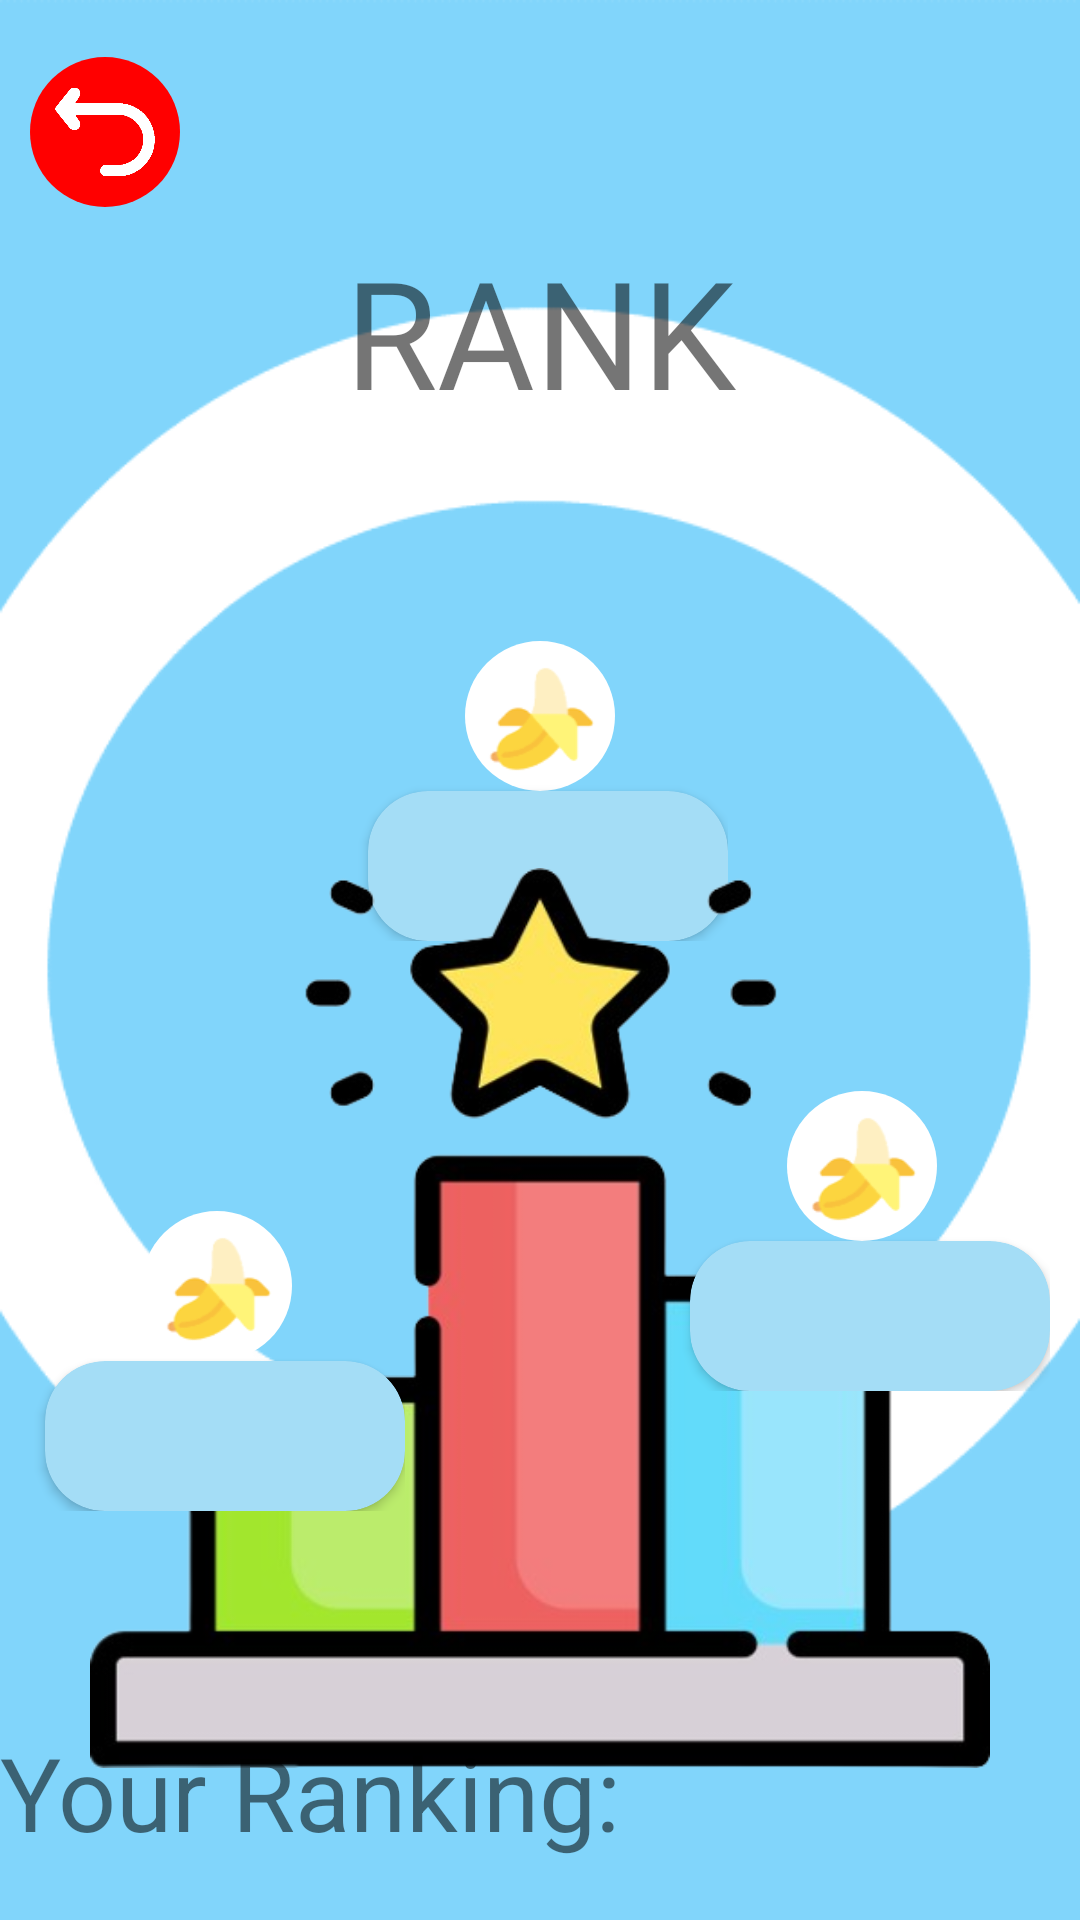

Icon click points for this 1080×1920 phone screenshot, format (x=x, y=y):
back: (x=105, y=132)
banana: (x=540, y=716), (x=862, y=1166), (x=217, y=1286)
